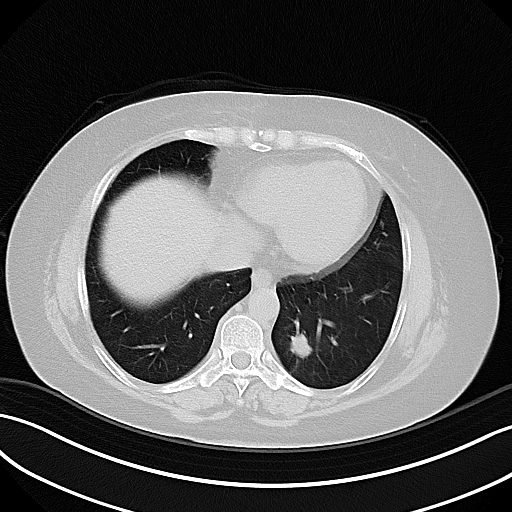nodule: (289, 331, 313, 359)
